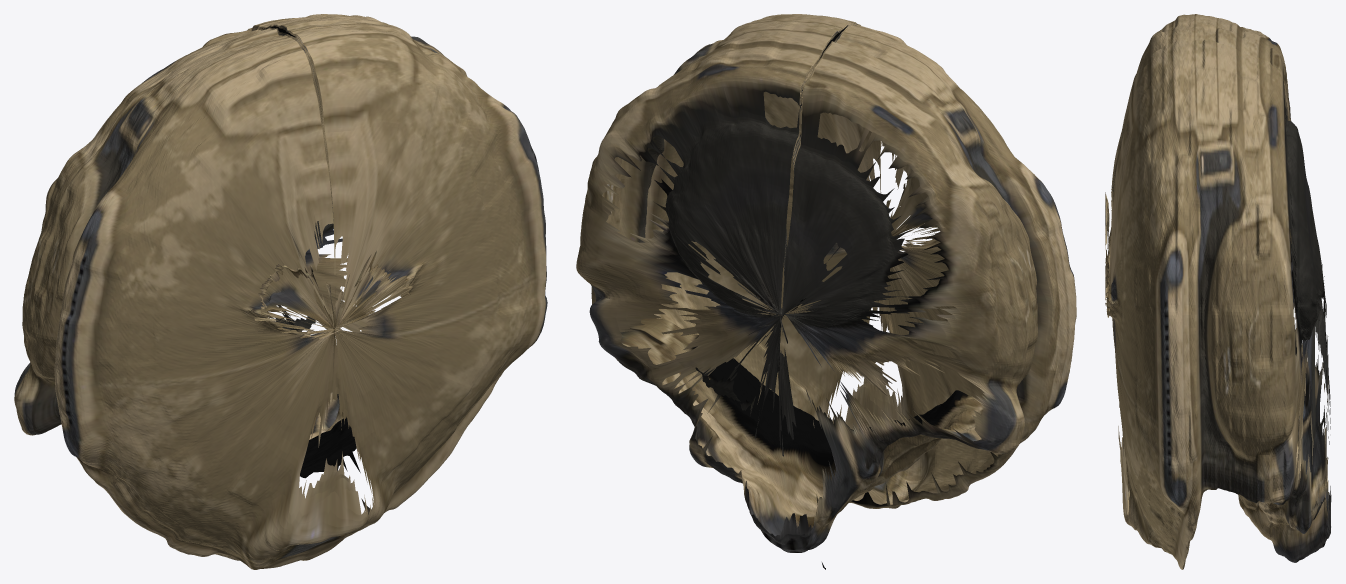
3 views of the same model, side by side, from view 1: azimuth 30°, elevation 25°; view 2: azimuth 150°, elevation 25°; view 3: azimuth 270°, elevation 25° (orthographic). The views are drawn at different scales.
Parts seen in each view (by area): view 1: geometry_0; view 2: geometry_0; view 3: geometry_0.
Part boxes in pixels (x1,y1,x2,y2): geometry_0: [14, 14, 547, 569]; geometry_0: [576, 14, 1076, 569]; geometry_0: [1105, 14, 1331, 569].
Size of the model in its own units: 1.92 by 1.98 by 0.7867.
Materials: 1 (1 with a texture image).
